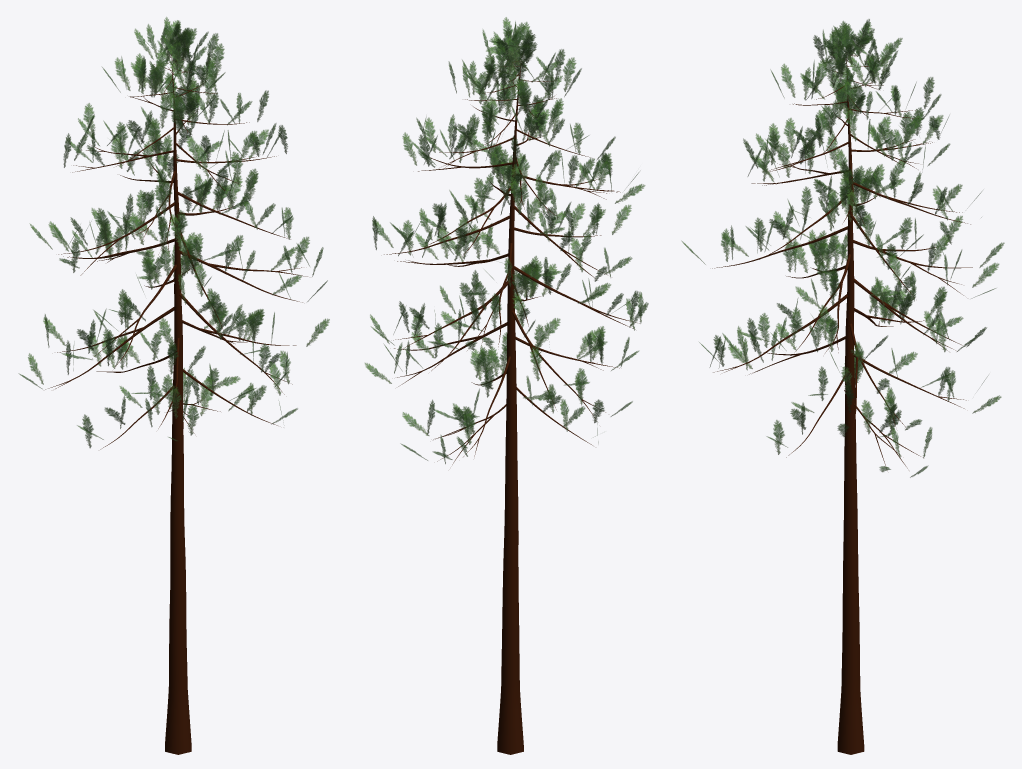
Rendered from FirTree2.gltf.
The picture shows the model from 3 angles, left to right: view 1: azimuth 30°, elevation 25°; view 2: azimuth 150°, elevation 25°; view 3: azimuth 270°, elevation 25°; orthographic projection.
Visible parts, largest first — view 1: LeafSet019_2K_Color_A.327, tree; view 2: LeafSet019_2K_Color_A.327, tree; view 3: LeafSet019_2K_Color_A.327, tree.
Boxes of the visible parts, x1,y1,x2,y2 form: LeafSet019_2K_Color_A.327: (18,17,329,448); tree: (45,54,307,754); LeafSet019_2K_Color_A.327: (365,17,648,463); tree: (384,60,639,754); LeafSet019_2K_Color_A.327: (682,19,1004,477); tree: (712,54,972,754).
Bounding box in the file's own units: 5.35 × 12.81 × 5.24.
2 materials, 1 textured.
